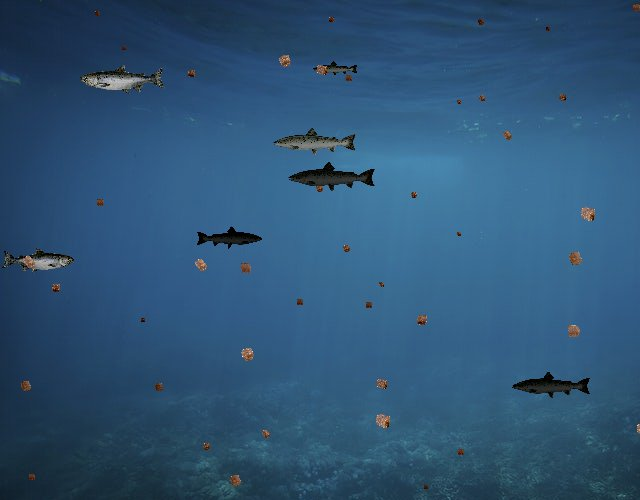Fish: (288, 161, 378, 193), (272, 126, 358, 157), (80, 64, 166, 95), (511, 371, 592, 400), (2, 247, 75, 274), (195, 226, 263, 250), (312, 61, 359, 78)
Pellet: (310, 59, 333, 82), (497, 125, 517, 145), (183, 65, 200, 82), (362, 298, 376, 312), (91, 7, 104, 20), (454, 96, 464, 107)
